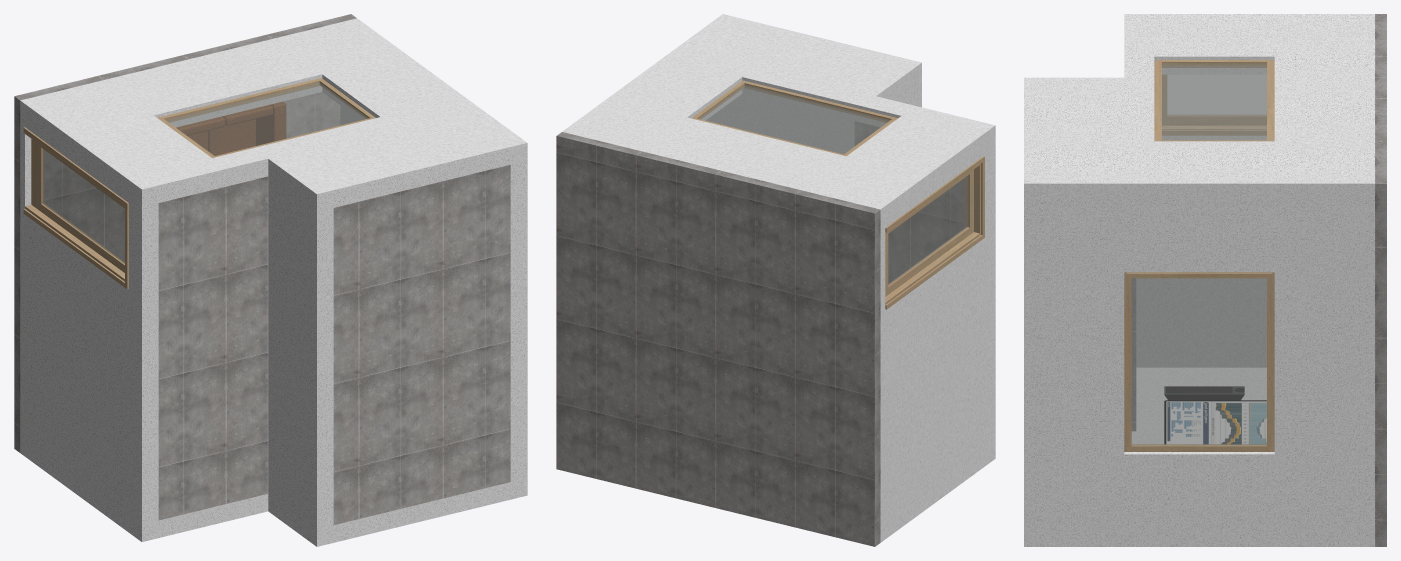
File: block.obj
The picture shows the model from 3 angles, left to right: view 1: azimuth 30°, elevation 25°; view 2: azimuth 150°, elevation 25°; view 3: azimuth 270°, elevation 25°; orthographic projection. The views are drawn at different scales.
Parts seen in each view (by area): view 1: STRUCTURAL_-_BEARING STUCCO_-_WHITE_FINE, STRUCTURAL_-_BEARING CONCRETE_-_04, STRUCTURAL_-_BEARING GLASS_-_CLEAR_FAST, STRUCTURAL_-_BEARING WOOD_-_PINE_GRAINED_HORIZONTAL, INTERIOR_-_FURNITURE_ LEATHER_-_TABAC FLAT_PART, INTERIOR_-_FURNITURE_ LEATHER_-_TABAC SMOOTH_PART; view 2: STRUCTURAL_-_BEARING CONCRETE_-_04, STRUCTURAL_-_BEARING STUCCO_-_WHITE_FINE, STRUCTURAL_-_BEARING GLASS_-_CLEAR_FAST, STRUCTURAL_-_BEARING WOOD_-_PINE_GRAINED_HORIZONTAL; view 3: STRUCTURAL_-_BEARING STUCCO_-_WHITE_FINE, STRUCTURAL_-_BEARING GLASS_-_CLEAR_FAST, STRUCTURAL_-_BEARING WOOD_-_PINE_GRAINED_HORIZONTAL, STRUCTURAL_-_BEARING CONCRETE_-_04, INTERIOR_-_FURNITURE_ GDLM20_PICTMAT_TEXTURE, INTERIOR_-_FURNITURE_ METAL_-_STAINLESS_STEEL.
Part boxes in pixels (x1=…): STRUCTURAL_-_BEARING STUCCO_-_WHITE_FINE: x1=20, y1=18, x2=527, y2=546; STRUCTURAL_-_BEARING CONCRETE_-_04: x1=14, y1=14, x2=510, y2=524; STRUCTURAL_-_BEARING GLASS_-_CLEAR_FAST: x1=42, y1=82, x2=368, y2=263; STRUCTURAL_-_BEARING WOOD_-_PINE_GRAINED_HORIZONTAL: x1=23, y1=78, x2=375, y2=289; INTERIOR_-_FURNITURE_ LEATHER_-_TABAC FLAT_PART: x1=178, y1=105, x2=273, y2=155; INTERIOR_-_FURNITURE_ LEATHER_-_TABAC SMOOTH_PART: x1=176, y1=101, x2=286, y2=152; STRUCTURAL_-_BEARING CONCRETE_-_04: x1=556, y1=121, x2=963, y2=546; STRUCTURAL_-_BEARING STUCCO_-_WHITE_FINE: x1=562, y1=14, x2=995, y2=542; STRUCTURAL_-_BEARING GLASS_-_CLEAR_FAST: x1=698, y1=85, x2=968, y2=285; STRUCTURAL_-_BEARING WOOD_-_PINE_GRAINED_HORIZONTAL: x1=691, y1=80, x2=984, y2=309; STRUCTURAL_-_BEARING STUCCO_-_WHITE_FINE: x1=1024, y1=14, x2=1374, y2=546; STRUCTURAL_-_BEARING GLASS_-_CLEAR_FAST: x1=1131, y1=63, x2=1266, y2=445; STRUCTURAL_-_BEARING WOOD_-_PINE_GRAINED_HORIZONTAL: x1=1124, y1=60, x2=1274, y2=451; STRUCTURAL_-_BEARING CONCRETE_-_04: x1=1131, y1=14, x2=1386, y2=546; INTERIOR_-_FURNITURE_ GDLM20_PICTMAT_TEXTURE: x1=1166, y1=401, x2=1266, y2=444; INTERIOR_-_FURNITURE_ METAL_-_STAINLESS_STEEL: x1=1164, y1=386, x2=1244, y2=400.
Size of the model in its own units: 4019 by 4000 by 3620.
Materials: 11 (5 with a texture image).
